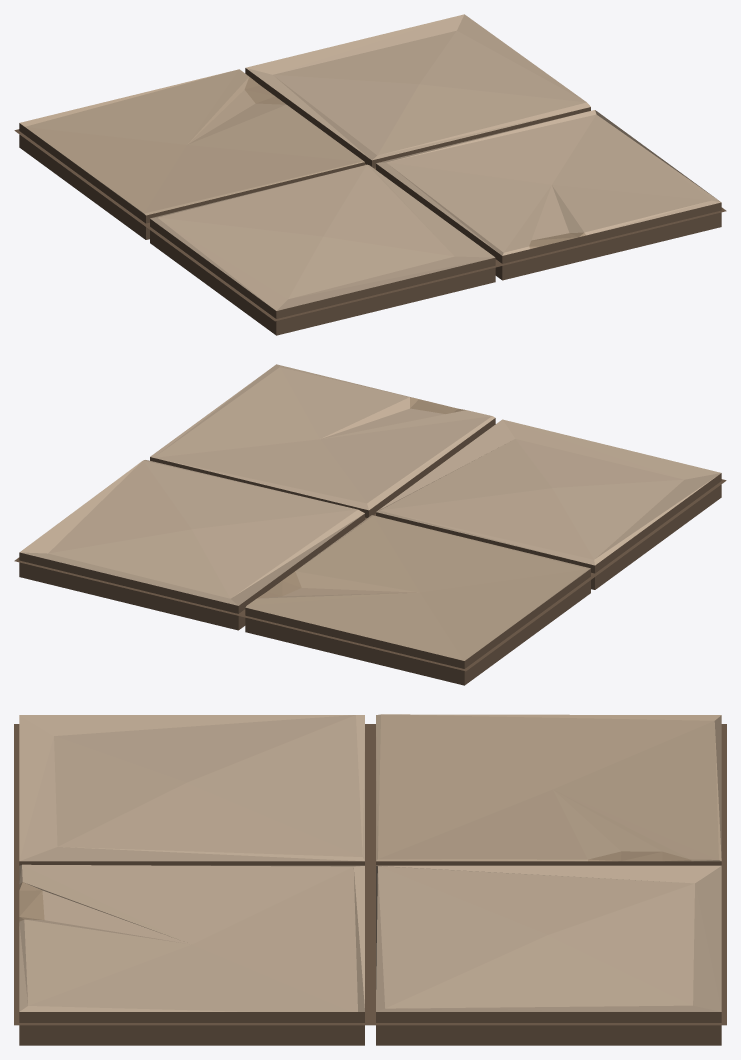
Rendered from SM_Ground_PavingTile_01.fbx.
3 renders of one model, top to bottom at view 1: azimuth 30°, elevation 25°; view 2: azimuth 150°, elevation 25°; view 3: azimuth 270°, elevation 25°, orthographic. The views are drawn at different scales.
Visible parts, largest first — view 1: SM_Ground_PavingTile_01; view 2: SM_Ground_PavingTile_01; view 3: SM_Ground_PavingTile_01.
Boxes of the visible parts, <box> form: SM_Ground_PavingTile_01: <box>14,14,726,335</box>; SM_Ground_PavingTile_01: <box>14,364,726,685</box>; SM_Ground_PavingTile_01: <box>14,714,726,1045</box>.
Bounding box in the file's own units: 1 × 0.0588 × 1.
1 material, 1 textured.
